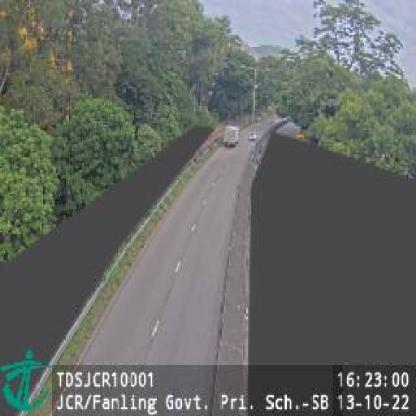Truck: (224, 125, 240, 148)
